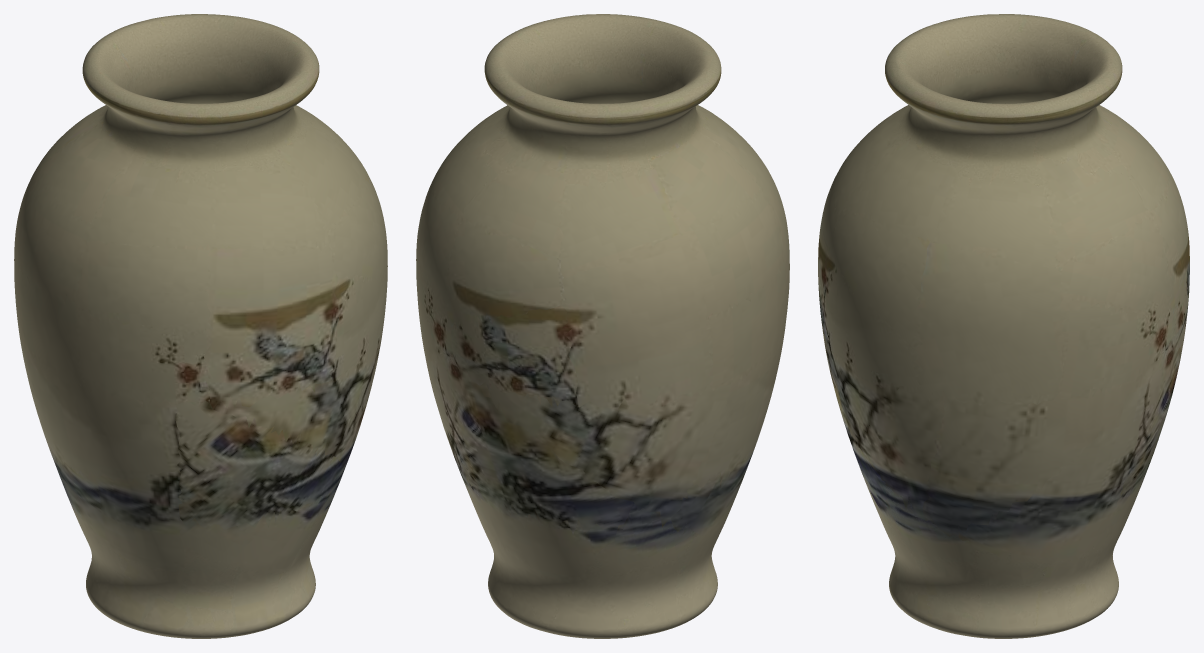
The picture shows the model from 3 angles, left to right: view 1: azimuth 30°, elevation 25°; view 2: azimuth 150°, elevation 25°; view 3: azimuth 270°, elevation 25°; orthographic projection.
Parts seen in each view (by area): view 1: 0; view 2: 0; view 3: 0.
Part boxes in pixels (x1=…): 0: x1=14, y1=14, x2=387, y2=638; 0: x1=416, y1=14, x2=789, y2=638; 0: x1=818, y1=14, x2=1189, y2=638.
Size of the model in its own units: 1.2 by 1.9 by 1.2.
1 material, 1 textured.
